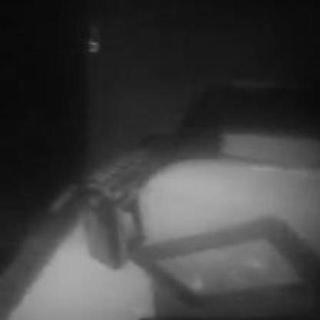other: (149, 242, 303, 292)
